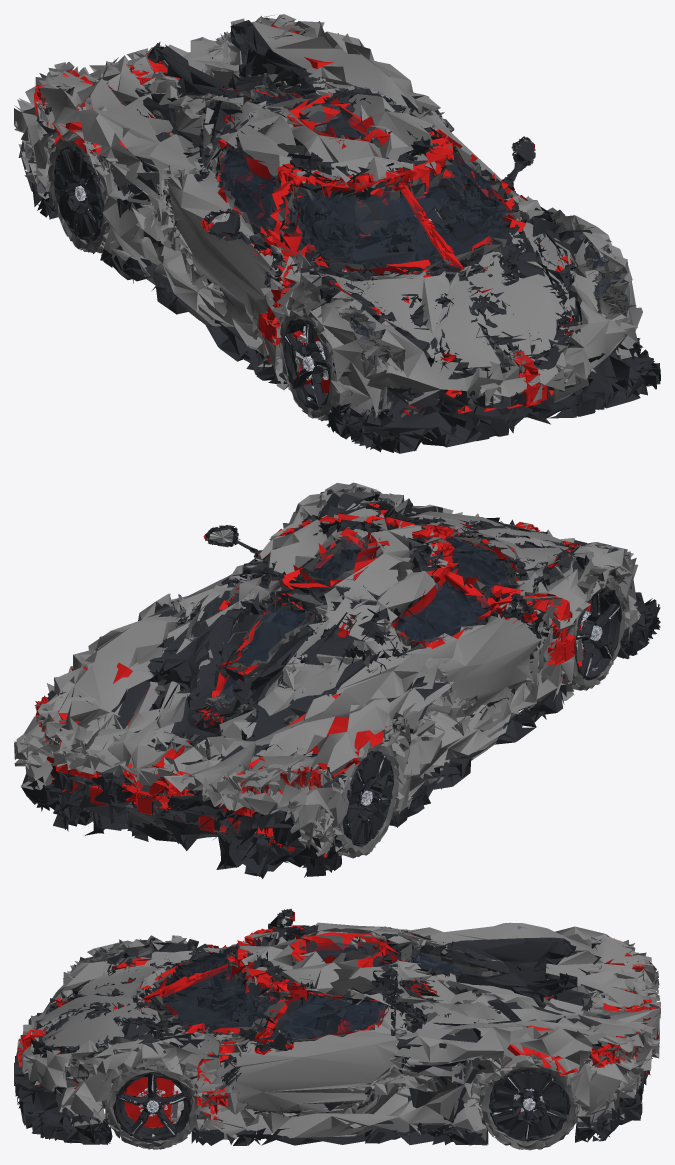
The model's file is koenigsegg-jesko.glb.
3 views of the same model, one above another, from view 1: azimuth 30°, elevation 25°; view 2: azimuth 150°, elevation 25°; view 3: azimuth 270°, elevation 25° (orthographic). The views are drawn at different scales.
Visible parts, largest first — view 1: BODY, GLASS, WHEEL_RR, WHEEL_RF; view 2: BODY, GLASS, WHEEL_RR, WHEEL_RF; view 3: BODY, GLASS, WHEEL_LR, WHEEL_LF.
Part boxes in pixels (box(x1,y1,x2,y2)): BODY: box(14, 14, 660, 453); GLASS: box(35, 69, 629, 371); WHEEL_RR: box(48, 137, 110, 253); WHEEL_RF: box(279, 307, 338, 421); BODY: box(14, 482, 660, 878); GLASS: box(36, 486, 618, 832); WHEEL_RR: box(337, 733, 399, 858); WHEEL_RF: box(568, 576, 626, 690); BODY: box(14, 908, 660, 1145); GLASS: box(65, 942, 647, 1099); WHEEL_LR: box(478, 1059, 579, 1150); WHEEL_LF: box(104, 1060, 200, 1149).
Bounding box in the file's own units: 2.25 × 1.19 × 4.64.
